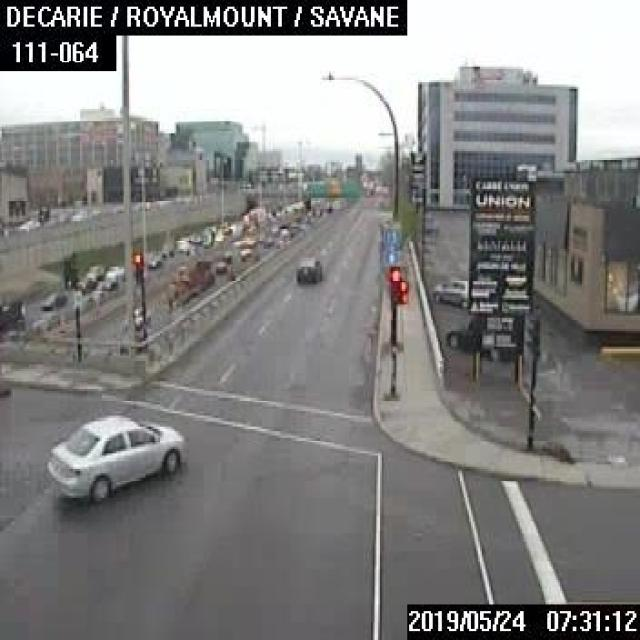vehicle: (44, 413, 187, 500), (444, 316, 514, 361), (167, 258, 213, 308), (429, 278, 468, 306), (0, 297, 25, 326), (295, 256, 321, 282), (40, 290, 64, 308), (104, 262, 124, 277), (86, 265, 102, 276), (147, 254, 161, 266), (99, 278, 115, 288), (214, 260, 227, 272), (238, 247, 250, 258), (222, 251, 232, 262), (261, 236, 272, 245)
